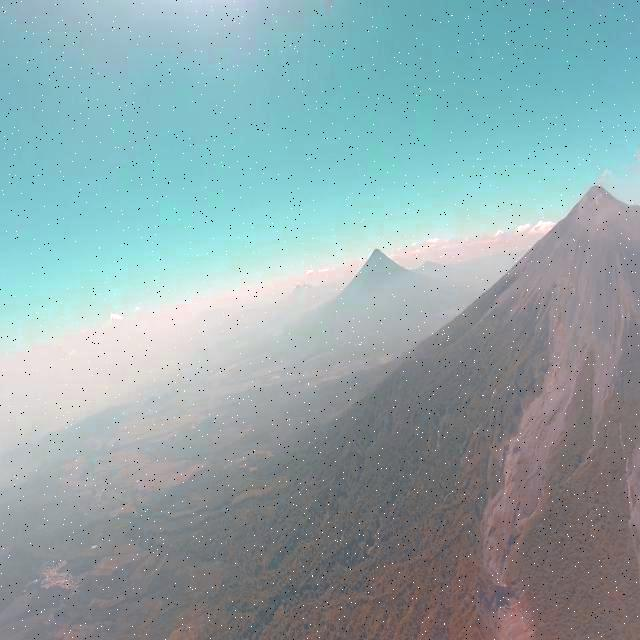Summit: (572, 180, 620, 220)
